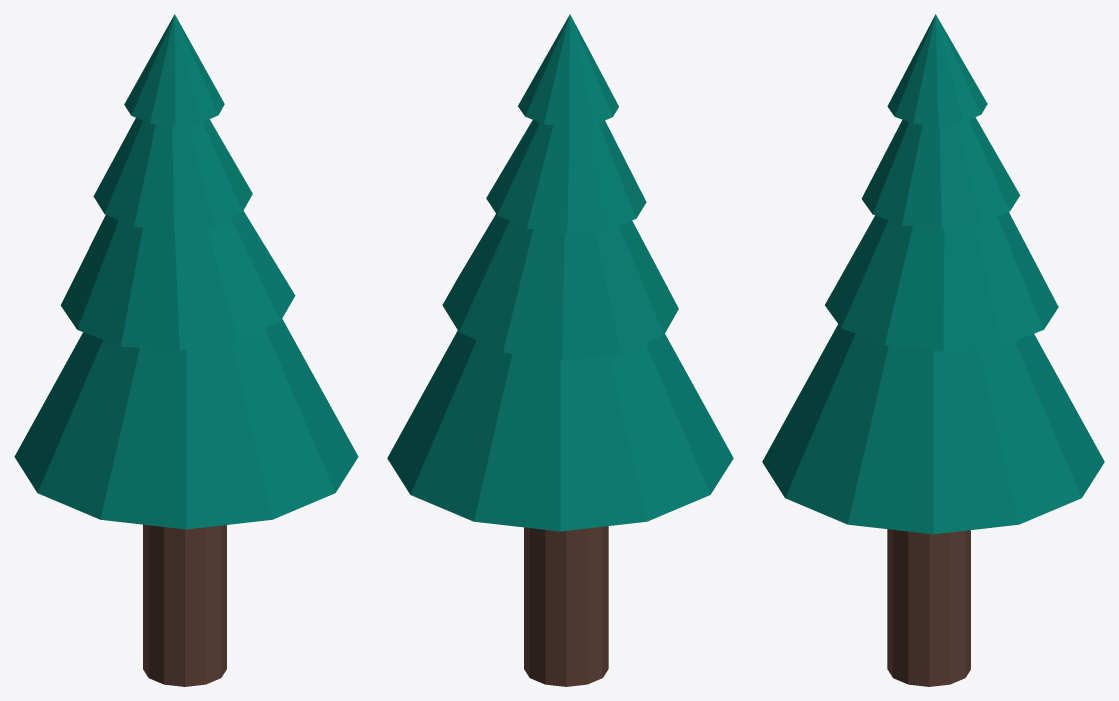
The picture shows the model from 3 angles, left to right: view 1: azimuth 30°, elevation 25°; view 2: azimuth 150°, elevation 25°; view 3: azimuth 270°, elevation 25°; orthographic projection.
Parts seen in each view (by area): view 1: node_MeshObject-402600832-PolyPaper11; view 2: node_MeshObject-402600832-PolyPaper11; view 3: node_MeshObject-402600832-PolyPaper11.
Part boxes in pixels (x1,y1,x2,y2): node_MeshObject-402600832-PolyPaper11: (14,14,358,686); node_MeshObject-402600832-PolyPaper11: (387,14,733,686); node_MeshObject-402600832-PolyPaper11: (762,14,1104,686).
Size of the model in its own units: 0.8812 by 1.85 by 0.8812.
